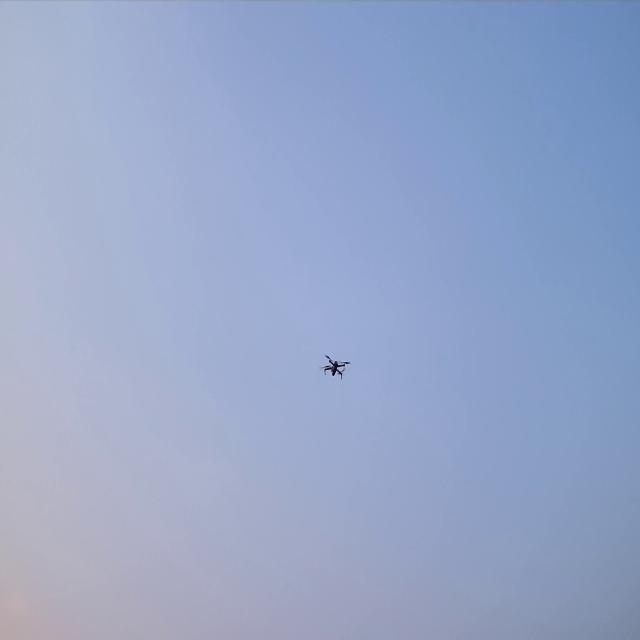UAV: (316, 353, 351, 380)
